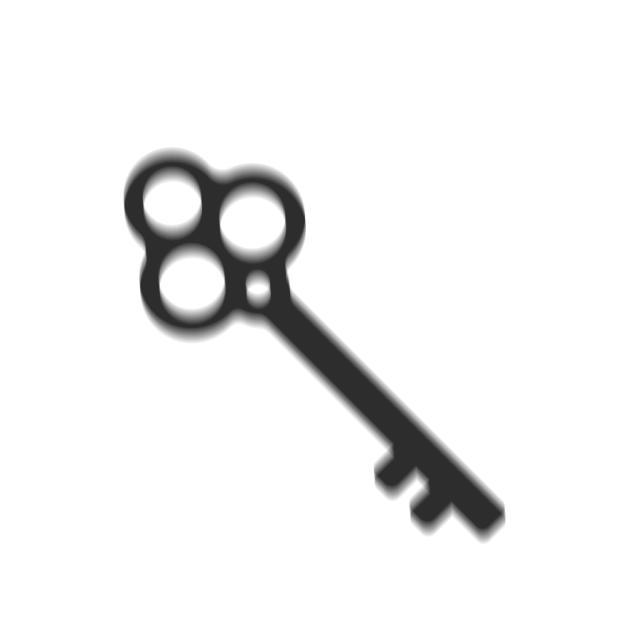key: (116, 143, 512, 555)
